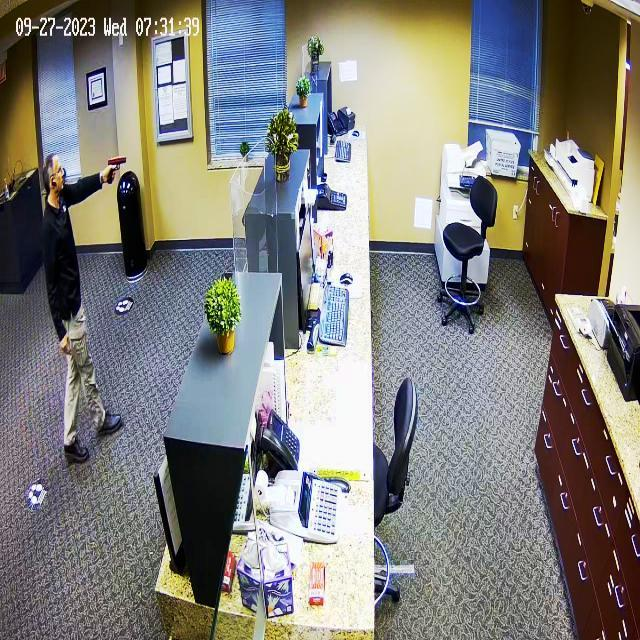Gun: (101, 153, 137, 184)
